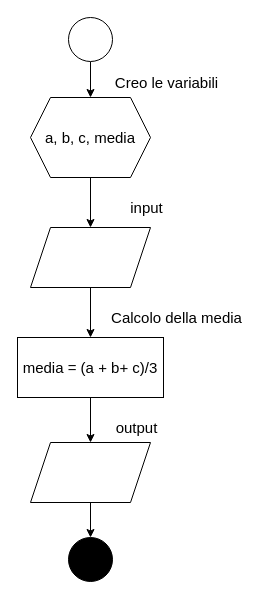
Some shapes in this 269 by 599 pixel diagram are drawn without their labels. The box of each missing label's shape, as (x1, y1, x2, y2) in pixels:
a, b, c: (30, 226, 150, 288)
media: (30, 442, 150, 502)
